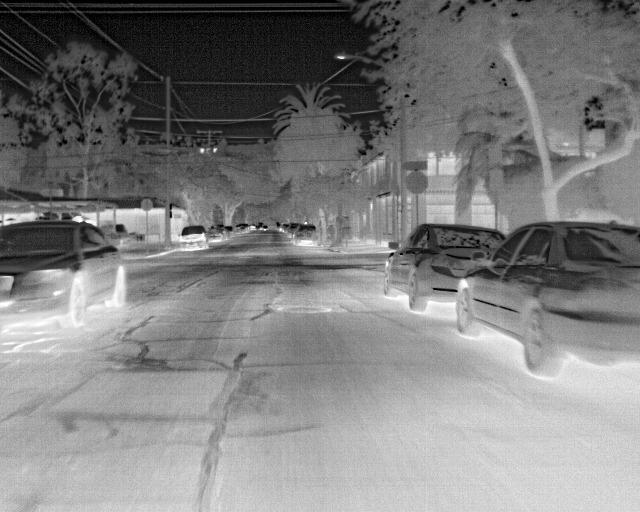car: (456, 220, 639, 379), (0, 219, 127, 328), (384, 222, 506, 313), (179, 225, 209, 250), (100, 224, 131, 242), (293, 224, 318, 246), (205, 228, 227, 242), (287, 223, 300, 239), (224, 226, 236, 236), (281, 223, 291, 233), (235, 228, 245, 236), (249, 224, 257, 231), (262, 225, 269, 231)
light: (168, 203, 172, 218)
sign: (406, 171, 428, 193), (490, 169, 504, 188), (489, 145, 503, 164), (403, 160, 427, 170), (41, 188, 64, 196), (141, 198, 153, 210)
